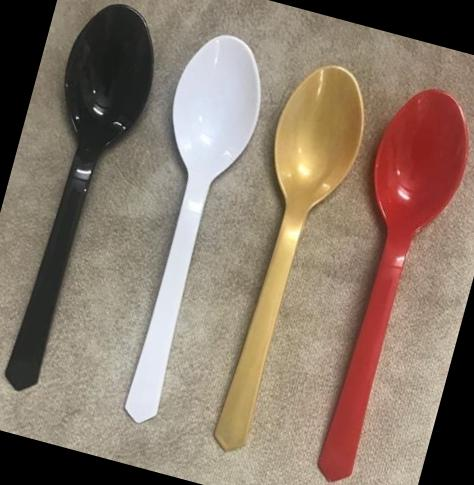Plastik: (318, 90, 467, 481), (214, 66, 363, 450), (6, 4, 153, 389), (125, 35, 260, 422)
